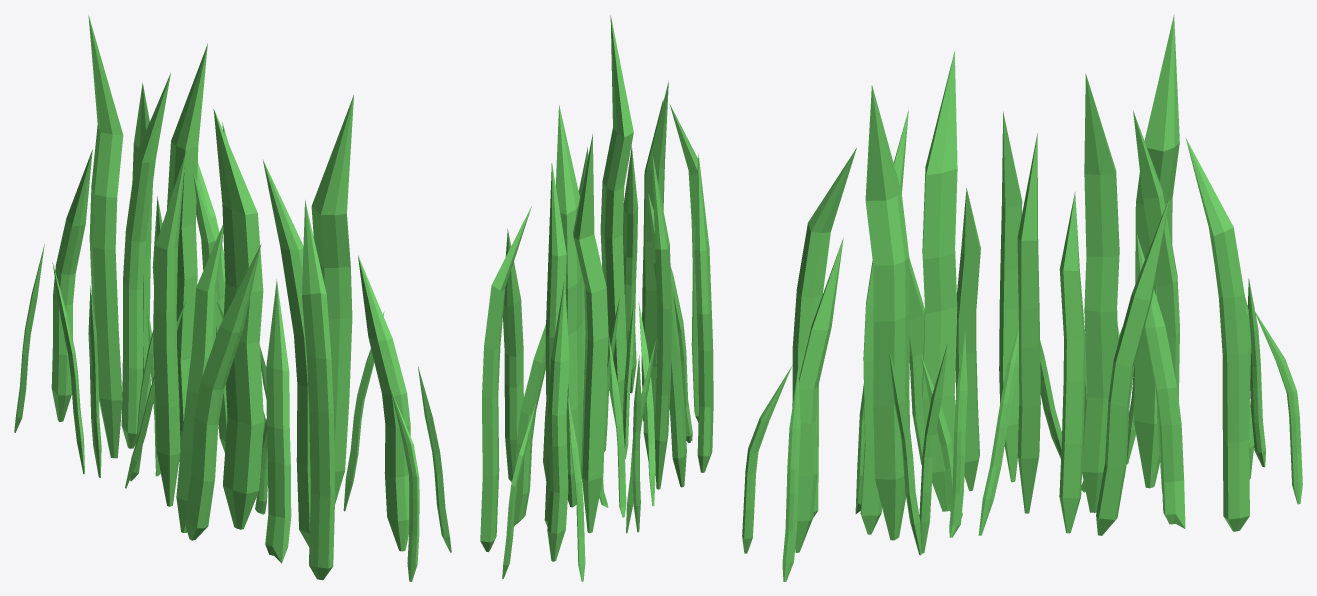
The model's file is grass.fbx.
3 renders of one model, left to right at view 1: azimuth 30°, elevation 25°; view 2: azimuth 150°, elevation 25°; view 3: azimuth 270°, elevation 25°, orthographic. The views are drawn at different scales.
Visible parts, largest first — view 1: Plane.001; view 2: Plane.001; view 3: Plane.001.
Part boxes in pixels (x1,y1,x2,y2): Plane.001: (14,15,451,581); Plane.001: (480,15,713,581); Plane.001: (742,14,1302,581).
Size of the model in its own units: 100 by 195 by 206.
